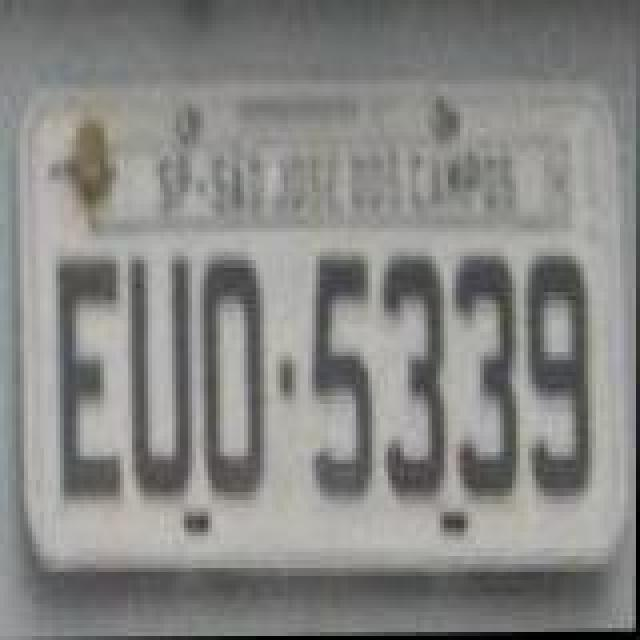3: (380, 254, 448, 506), (452, 254, 520, 502)
5: (308, 254, 376, 506)
9: (522, 254, 594, 502)
E: (58, 246, 130, 502)
O: (200, 252, 268, 504)
U: (126, 254, 198, 502)
